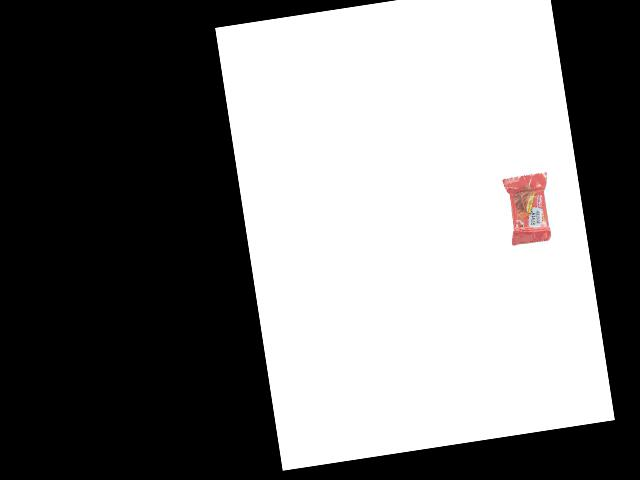chocolate: (502, 170, 562, 252)
